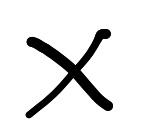mult: (27, 29, 113, 117)
